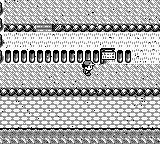leer: (100, 48, 116, 64)
main: (82, 61, 95, 75)
no-caminable: (1, 129, 160, 143), (2, 50, 99, 63), (117, 50, 130, 63)
salto: (1, 88, 160, 96), (53, 24, 159, 31), (4, 24, 34, 32)
